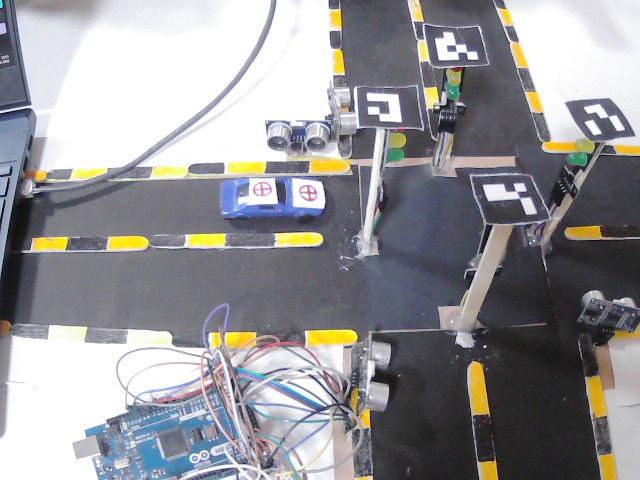aruco_marker: (473, 173, 550, 224), (353, 83, 423, 131), (567, 95, 635, 143), (425, 24, 489, 70)
emergency_vehicle: (216, 175, 327, 225)
traffic_light: (549, 135, 605, 208), (438, 71, 466, 133), (377, 132, 409, 186)
uno_breadboard: (70, 357, 284, 480), (341, 333, 393, 414), (575, 289, 640, 346), (266, 114, 331, 156), (325, 80, 360, 137)
